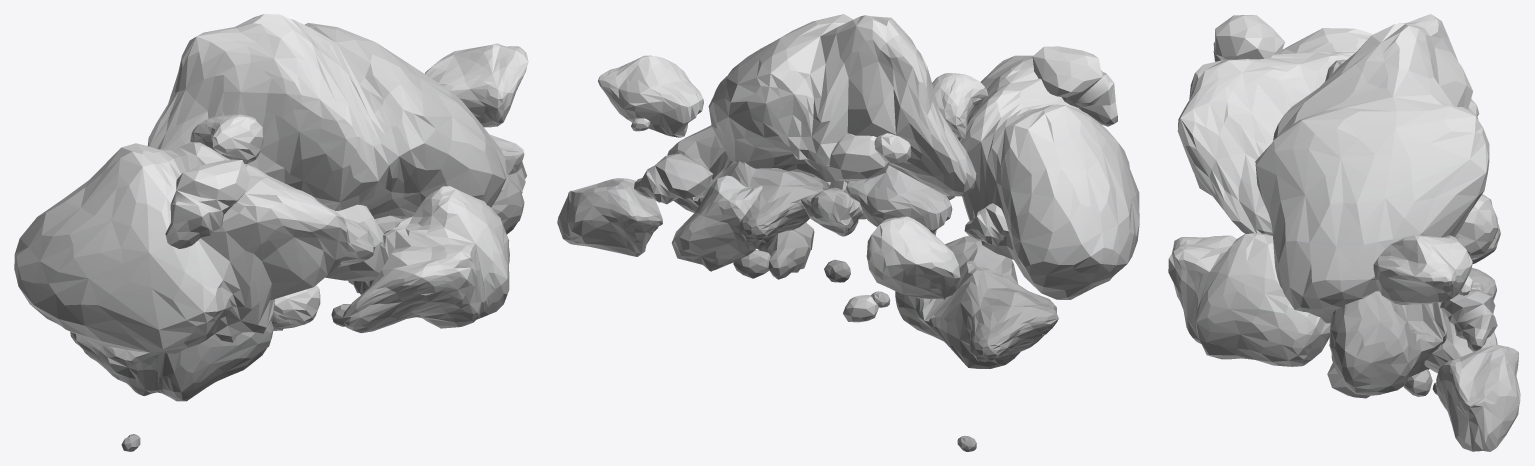
The model's file is Island_leaf_001.FBX.
3 renders of one model, left to right at view 1: azimuth 30°, elevation 25°; view 2: azimuth 150°, elevation 25°; view 3: azimuth 270°, elevation 25°, orthographic. The views are drawn at different scales.
Parts seen in each view (by area): view 1: Iland_001; view 2: Iland_001; view 3: Iland_001.
Boxes of the visible parts, <box> form: Iland_001: <box>14,14,528,451</box>; Iland_001: <box>557,14,1139,451</box>; Iland_001: <box>1168,14,1520,451</box>.
Size of the model in its own units: 15.71 by 11.4 by 8.48.
